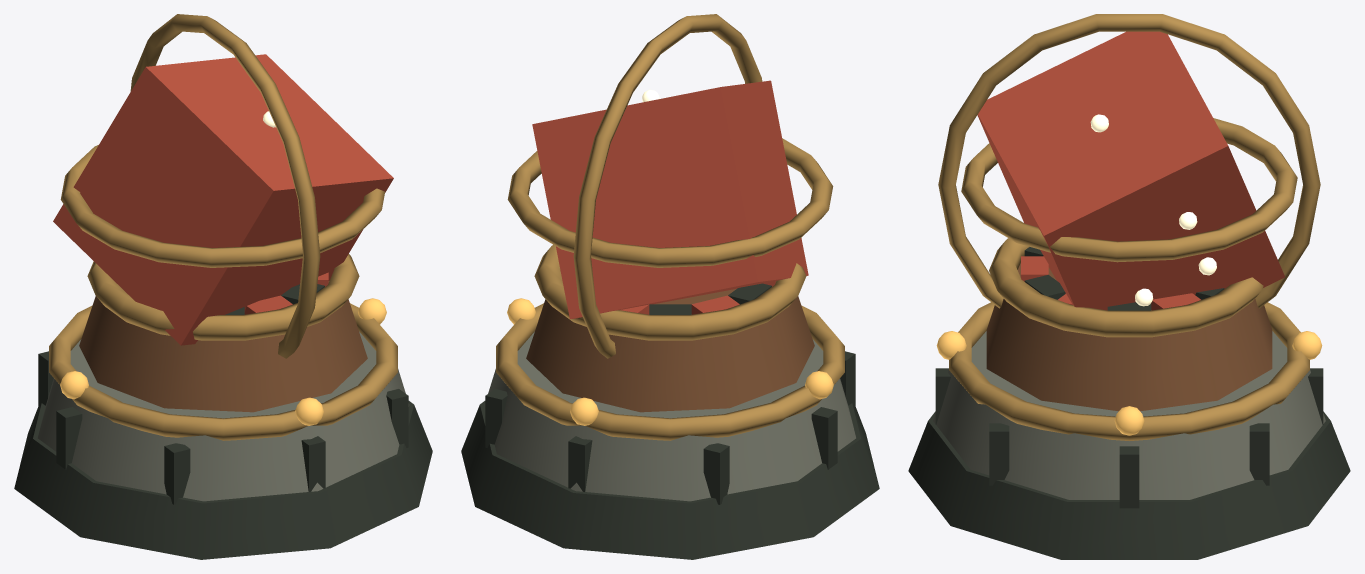
File: tower_gamble_gambleFate_ultimate.glb
3 renders of one model, left to right at view 1: azimuth 30°, elevation 25°; view 2: azimuth 150°, elevation 25°; view 3: azimuth 270°, elevation 25°, orthographic. The views are drawn at different scales.
Parts seen in each view (by area): view 1: die_29, foot_0, stone_1, table_15, rim_2, high_roller_36, fate_ring_35, roulette_rim_16, mortar_6, mortar_7, mortar_5, mortar_4 (+5 smaller); view 2: die_29, foot_0, stone_1, table_15, rim_2, fate_ring_35, high_roller_36, roulette_rim_16, mortar_8, mortar_7, mortar_9, mortar_10 (+6 smaller); view 3: die_29, foot_0, stone_1, table_15, high_roller_36, rim_2, fate_ring_35, roulette_rim_16, mortar_3, mortar_4, mortar_10, rivet_11 (+6 smaller).
Part boxes in pixels (x1,y1,x2,y2): die_29: (53,54,393,345); foot_0: (14,401,432,559); stone_1: (38,331,409,501); table_15: (79,281,367,412); rim_2: (49,303,397,440); high_roller_36: (130,14,320,358); fate_ring_35: (60,145,384,267); roulette_rim_16: (87,254,359,340); mortar_6: (164,443,190,504); mortar_7: (56,407,82,469); mortar_5: (301,436,325,491); mortar_4: (386,389,408,447); die_29: (532,80,808,319); foot_0: (461,401,879,559); stone_1: (484,331,855,501); table_15: (526,281,814,412); rim_2: (496,303,844,440); fate_ring_35: (507,138,833,267); high_roller_36: (573,14,762,358); roulette_rim_16: (534,244,806,340); mortar_8: (703,443,729,504); mortar_7: (811,407,837,469); mortar_9: (568,436,592,491); mortar_10: (485,389,507,447); die_29: (977,31,1284,310); foot_0: (908,411,1350,559); stone_1: (933,331,1325,499); table_15: (986,263,1272,411); high_roller_36: (938,14,1320,308); rim_2: (949,302,1309,440); fate_ring_35: (961,118,1297,262); roulette_rim_16: (989,238,1263,337); mortar_3: (1119,446,1139,508); mortar_4: (989,423,1009,485); mortar_10: (1249,423,1269,485); rivet_11: (1114,406,1144,435).
Bounding box in the file's own units: 0.5326 × 0.6383 × 0.56.
